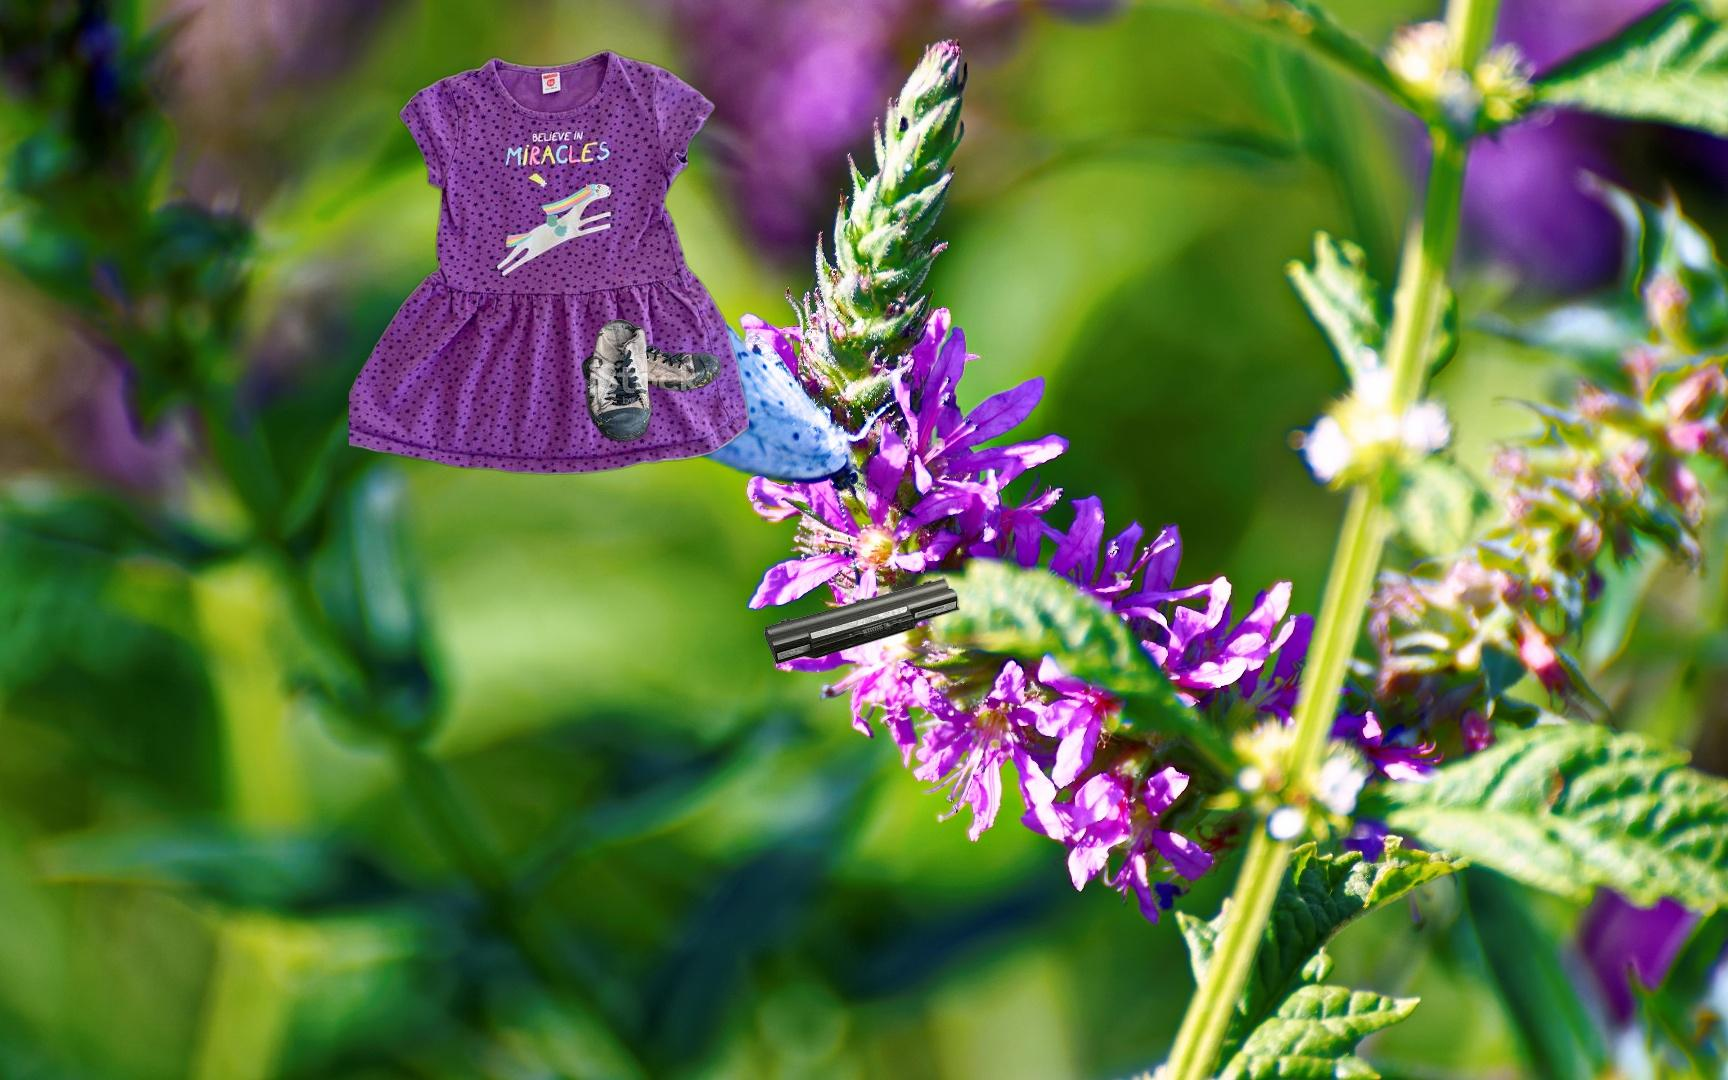battery: (761, 576, 963, 667)
clothes: (350, 46, 749, 480)
shoes: (578, 316, 724, 445)
